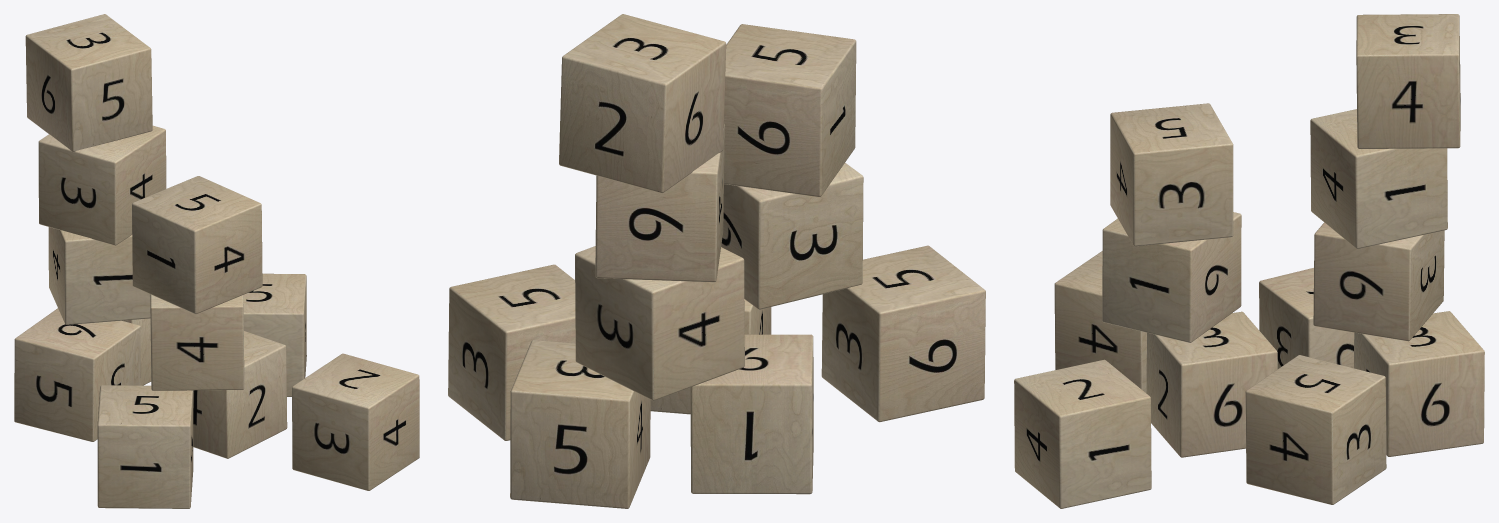
File: toy_01.glb
3 views of the same model, side by side, from view 1: azimuth 30°, elevation 25°; view 2: azimuth 150°, elevation 25°; view 3: azimuth 270°, elevation 25° (orthographic). The views are drawn at different scales.
Parts seen in each view (by area): view 1: BP_toy_01; view 2: BP_toy_01; view 3: BP_toy_01.
Boxes of the visible parts, x1,y1,x2,y2 form: BP_toy_01: [14, 14, 419, 508]; BP_toy_01: [448, 14, 985, 508]; BP_toy_01: [1014, 14, 1484, 508].
Size of the model in its own units: 0.1286 by 0.1375 by 0.1528.
1 material, 1 textured.
